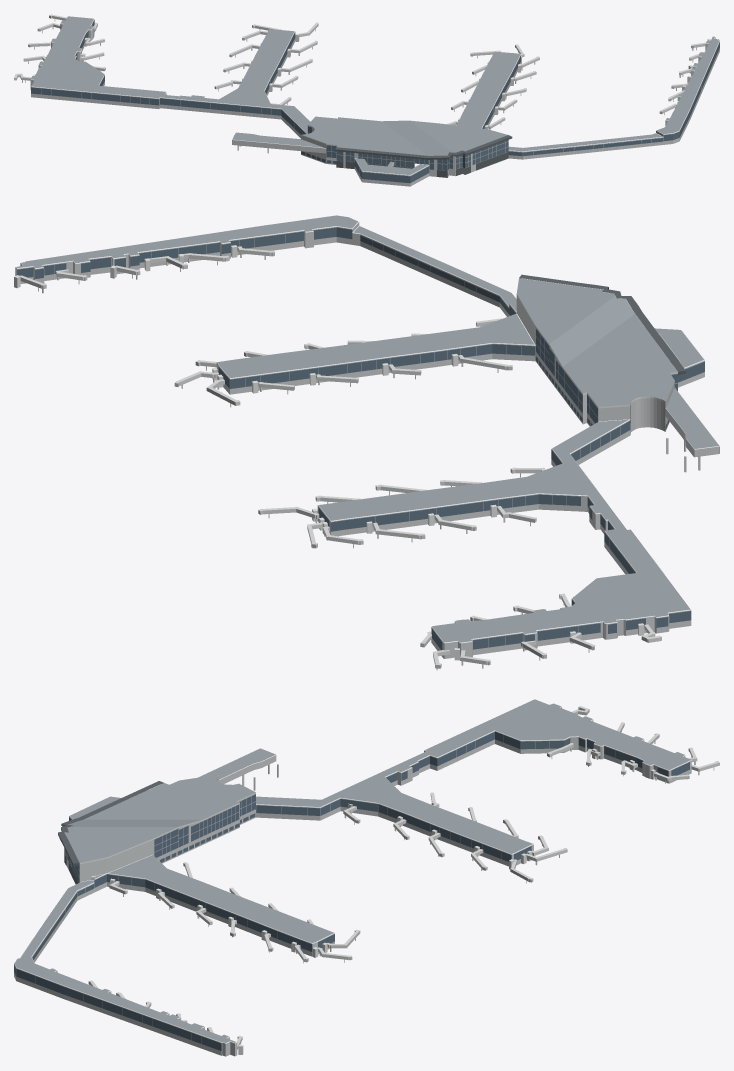
The model's file is nyc-lga-terminal-c.glb.
The picture shows the model from 3 angles, top to bottom: view 1: azimuth 30°, elevation 25°; view 2: azimuth 150°, elevation 25°; view 3: azimuth 270°, elevation 25°; orthographic projection. The views are drawn at different scales.
Parts seen in each view (by area): view 1: LaGuardia Airport Terminal C; view 2: LaGuardia Airport Terminal C; view 3: LaGuardia Airport Terminal C.
Boxes of the visible parts, bbox=[...] form: LaGuardia Airport Terminal C: bbox=[14, 14, 719, 186]; LaGuardia Airport Terminal C: bbox=[14, 215, 719, 670]; LaGuardia Airport Terminal C: bbox=[14, 699, 719, 1056].
Bounding box in the file's own units: 733 × 29.12 × 635.
